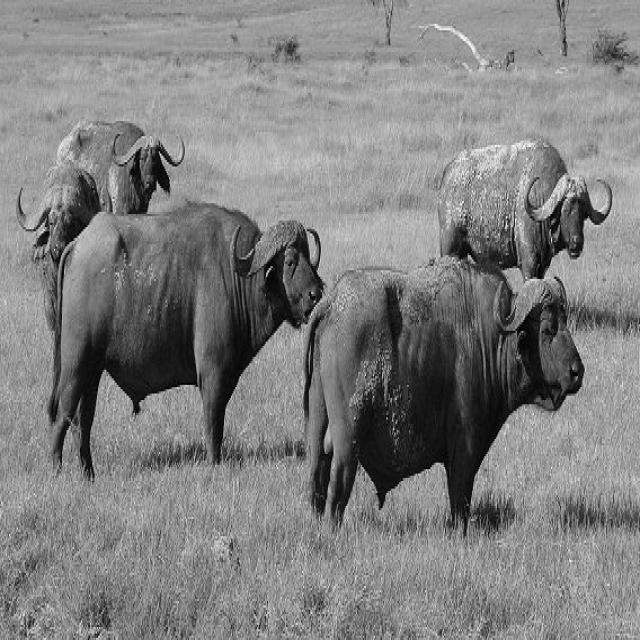Buffalo: (303, 253, 585, 543), (48, 199, 324, 480), (436, 138, 612, 281), (15, 160, 104, 333), (59, 115, 184, 216)
